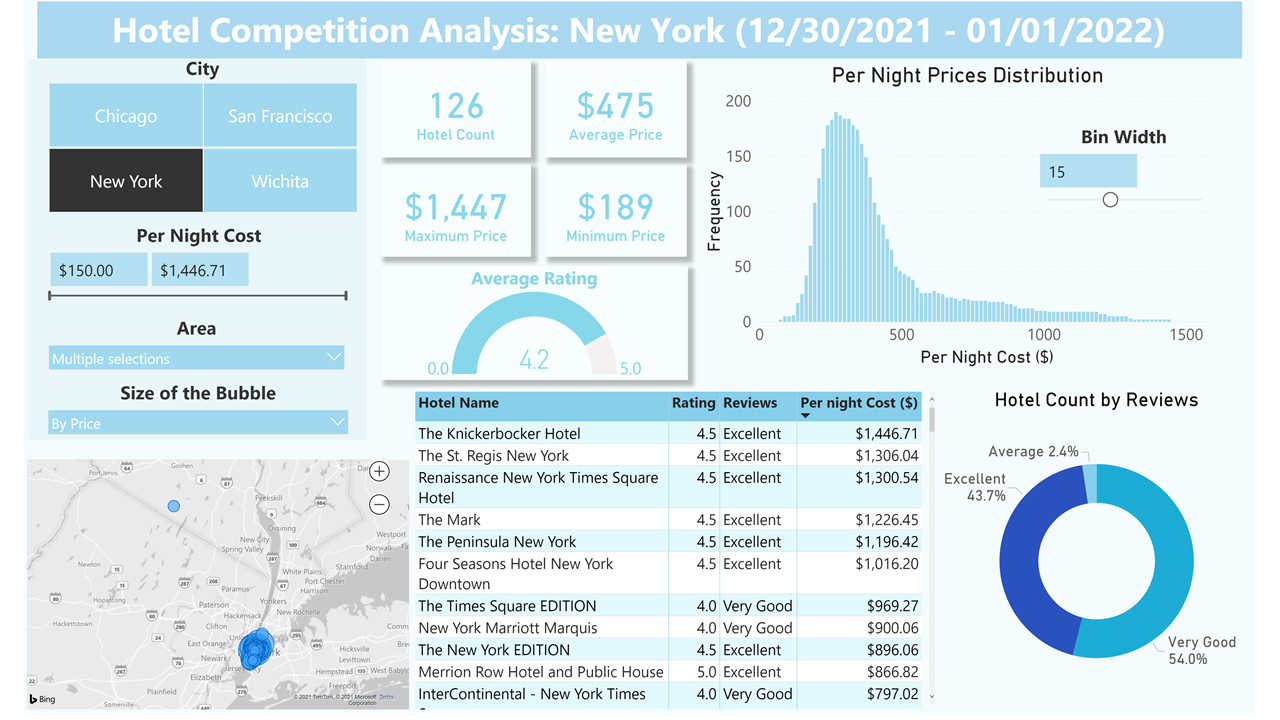

The dashboard page shown, as its layout file describes it:
{"tool":"powerbi","page":{"name":"City level summary","canvas":[2070,1200],"ordinal":2},"visuals":[{"type":"basicShape","box":[0,0,2070.7,101],"z":0},{"type":"card","fields":{"Values":["Hotel_DF.Title"]},"box":[30.3,0,2008.1,92.9],"z":1000},{"type":"card","fields":{"Values":["Hotel_DF.HotelCount"]},"box":[599.8,101.5,252.7,162.9],"z":2000},{"type":"card","fields":{"Values":["Hotel_DF.Lowest Price"]},"box":[876,276.3,238.5,155.8],"z":3000},{"type":"card","fields":{"Values":["Hotel_DF.Max Price"]},"box":[599.8,276.3,252.7,155.8],"z":4000},{"type":"card","fields":{"Values":["Hotel_DF.Average Price"]},"box":[876,101.5,238.5,162.9],"z":5000},{"type":"gauge","title":"Average Rating","fields":{"Y":["Avg(Hotel_DF.Rating)"]},"box":[599.7,446.5,516.6,192.6],"z":6000},{"type":"map","fields":{"Y":["Hotel_DF.lat"],"X":["Hotel_DF.lon"],"Size":["Metrics.Selection"]},"box":[0,768.3,652.3,431.2],"z":7000},{"type":"columnChart","title":"Per Night Prices Distribution","fields":{"Category":["my bins.bin from"],"Y":["my bins._histogram values"]},"box":[1136,105.1,901.8,516.6],"z":8000},{"type":"slicer","title":"Bin Width","fields":{"Values":["Histogram bins.Histogram bins"]},"box":[1694.9,208.1,309.1,155.6],"z":9000},{"type":"donutChart","title":"Hotel Count by Reviews","fields":{"Y":["Hotel_DF.HotelCount"],"Category":["Hotel_DF.Reviews"]},"box":[1537.4,652.5,533.3,545.5],"z":10000},{"type":"basicShape","box":[0,92.3,583.7,656.7],"z":11000},{"type":"slicer","title":"Per Night Cost","fields":{"Values":["Hotel_DF.PerNightCost"]},"box":[31.5,374.1,525.9,175.9],"z":12000},{"type":"slicer","title":"City","fields":{"Values":["Hotel_DF.Area"]},"box":[16.7,92.6,566.7,270.4],"z":13000},{"type":"slicer","title":"Area","fields":{"Values":["Hotel_DF.Location"]},"box":[31.5,529.6,518.5,109.3],"z":14000},{"type":"tableEx","fields":{"Values":["Hotel_DF.Name","Hotel_DF.Rating","Hotel_DF.Reviews","Avg(Hotel_DF.PerNightCost)"]},"box":[652.3,654.5,884.3,545],"z":15000},{"type":"slicer","title":"Size of the Bubble","fields":{"Values":["Metrics.Column1"]},"box":[30,639.5,525.8,128.8],"z":18000}]}

Visuals, with their boxes on the page's 2070x1200 design canvas (x1, y1, x2, y2). These are canvas units, not pixel positions in the 1280x720 screenshot, which may show the page scaled, cropped or inside an application window:
basicShape: (0,0,2071,101)
card - Hotel_DF.Title: (30,0,2038,93)
card - Hotel_DF.HotelCount: (600,102,852,264)
card - Hotel_DF.Lowest Price: (876,276,1114,432)
card - Hotel_DF.Max Price: (600,276,852,432)
card - Hotel_DF.Average Price: (876,102,1114,264)
"Average Rating" gauge: (600,446,1116,639)
map - Hotel_DF.lat x Hotel_DF.lon: (0,768,652,1200)
"Per Night Prices Distribution" columnChart: (1136,105,2038,622)
"Bin Width" slicer: (1695,208,2004,364)
"Hotel Count by Reviews" donutChart: (1537,652,2071,1198)
basicShape: (0,92,584,749)
"Per Night Cost" slicer: (32,374,557,550)
"City" slicer: (17,93,583,363)
"Area" slicer: (32,530,550,639)
tableEx - Hotel_DF.Name x Hotel_DF.Rating: (652,654,1537,1200)
"Size of the Bubble" slicer: (30,640,556,768)
